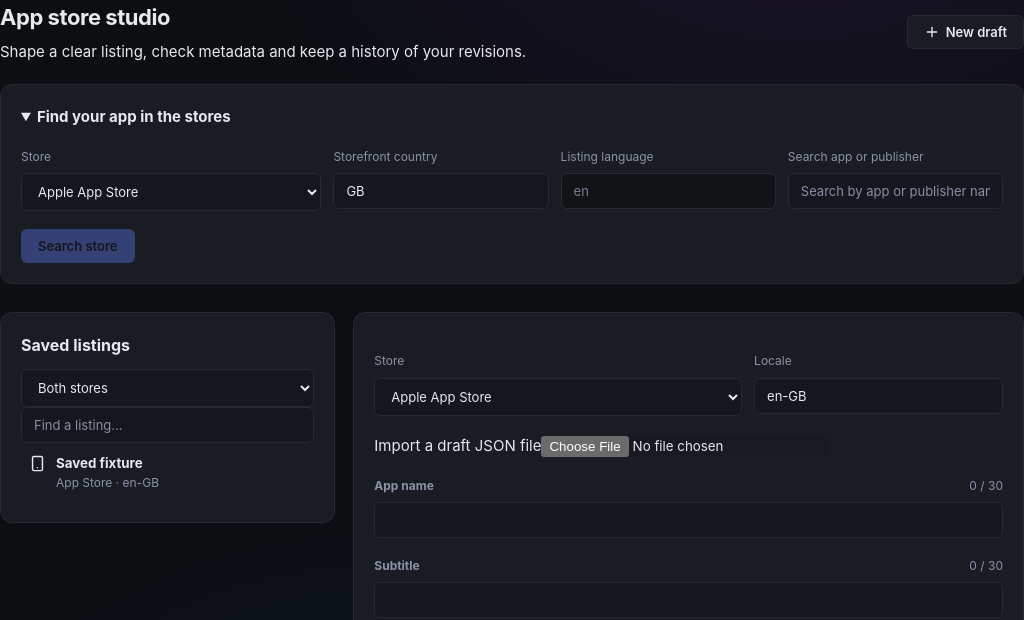
Test: deletes and clears the saved draft through Delete draft
Click the button "Saved fixture App Store · en-GB": (99, 463) [21,443,314,502]
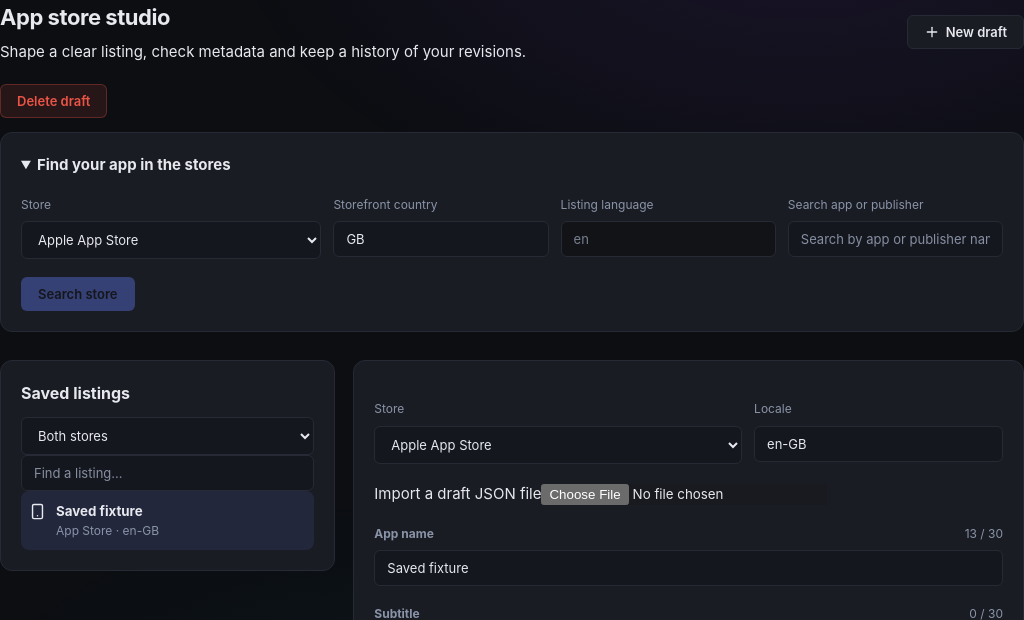
Replace the text in the field labelled "App name" with "Unsaved edit": (689, 568) [374,550,1003,586]
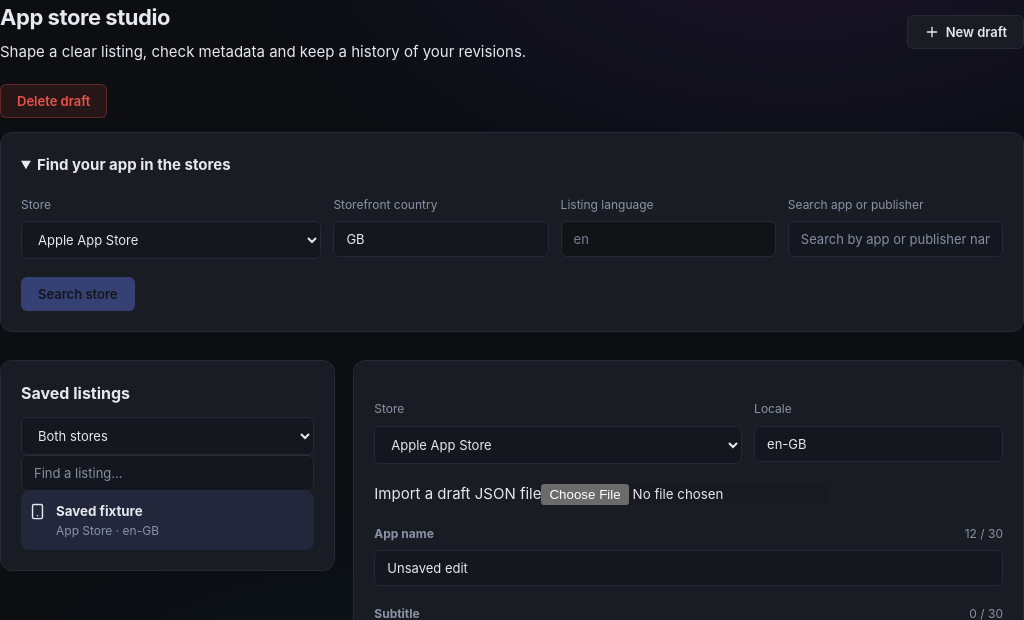
Click the button "Delete draft": (54, 101) [0,84,107,118]
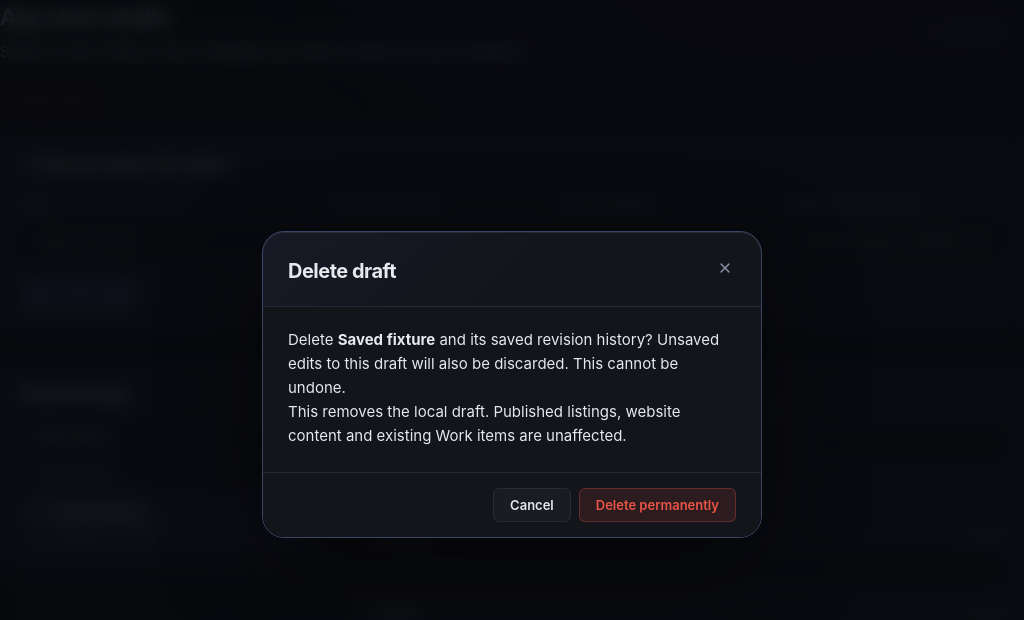
Result: the text "Saved fixture" is shown at [338,330,435,348]
Click the button "Delete permanently": (657, 504) [579,488,736,522]
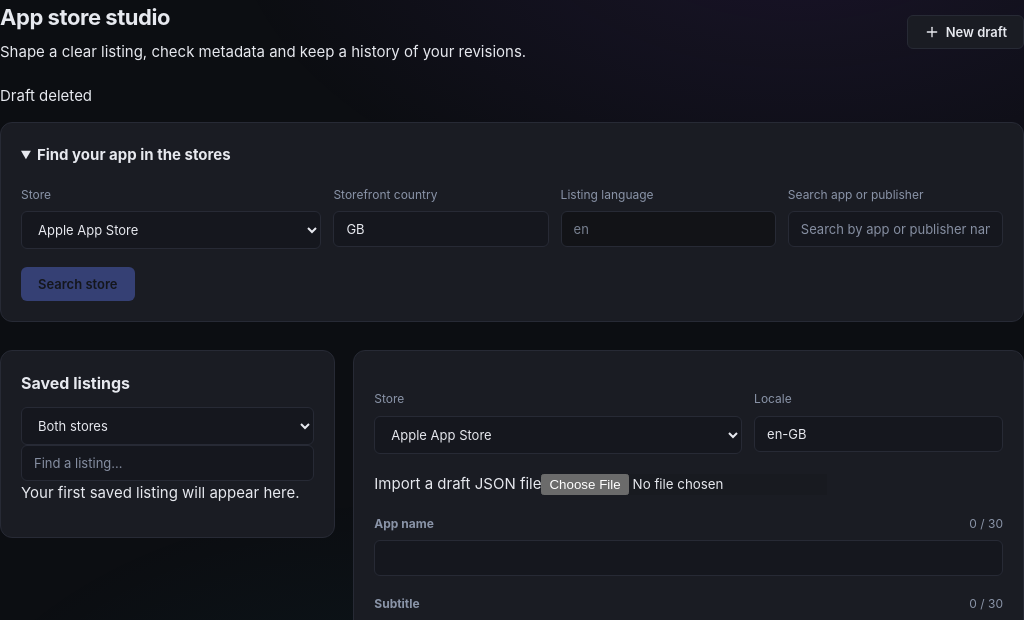
Expected: the button "Saved fixture" is not shown
Result: the dialog is gone
